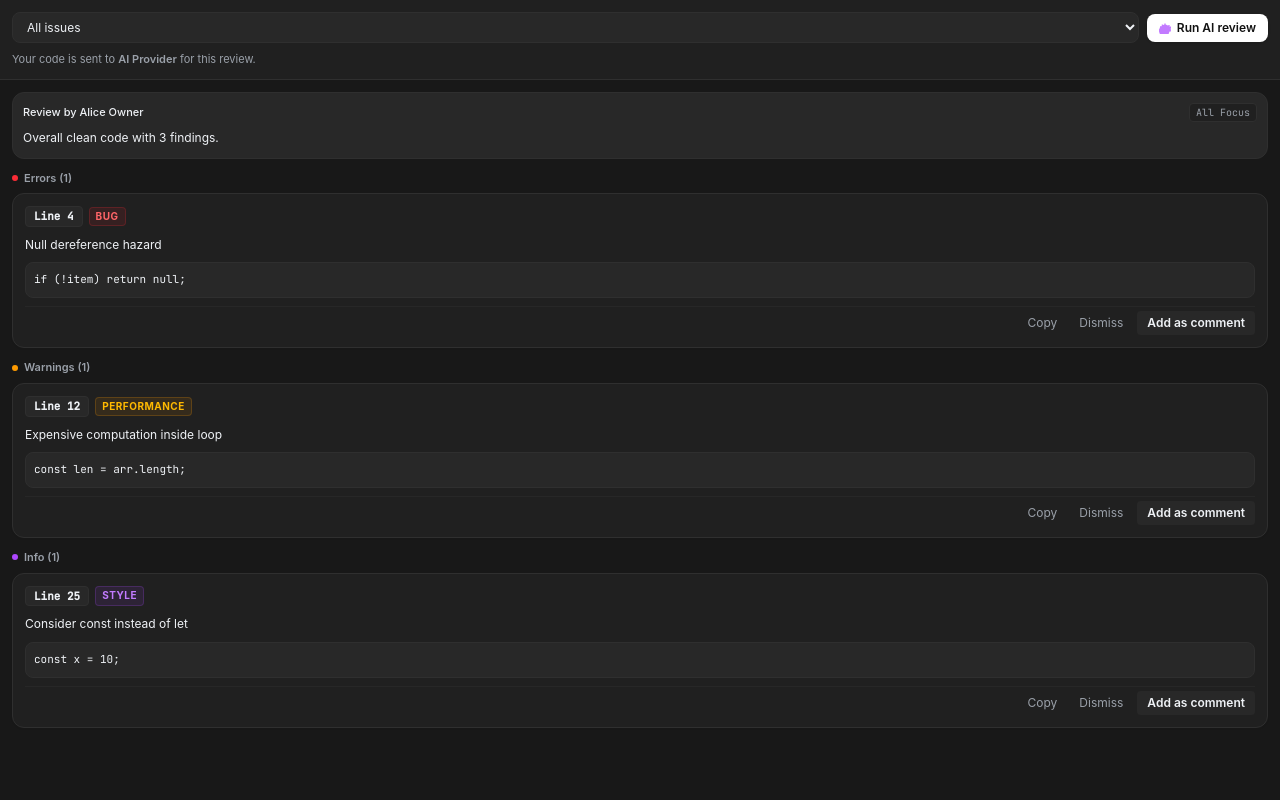
Test: Stage 3: AI Code Review Frontend › AiReviewPanel Component › clicking 'Dismiss' locally removes the finding from the view
Check: the text "Null dereference hazard" is shown, box [25, 237, 162, 252]
Click the 1st button "Dismiss": (1101, 323) [1071, 311, 1131, 335]
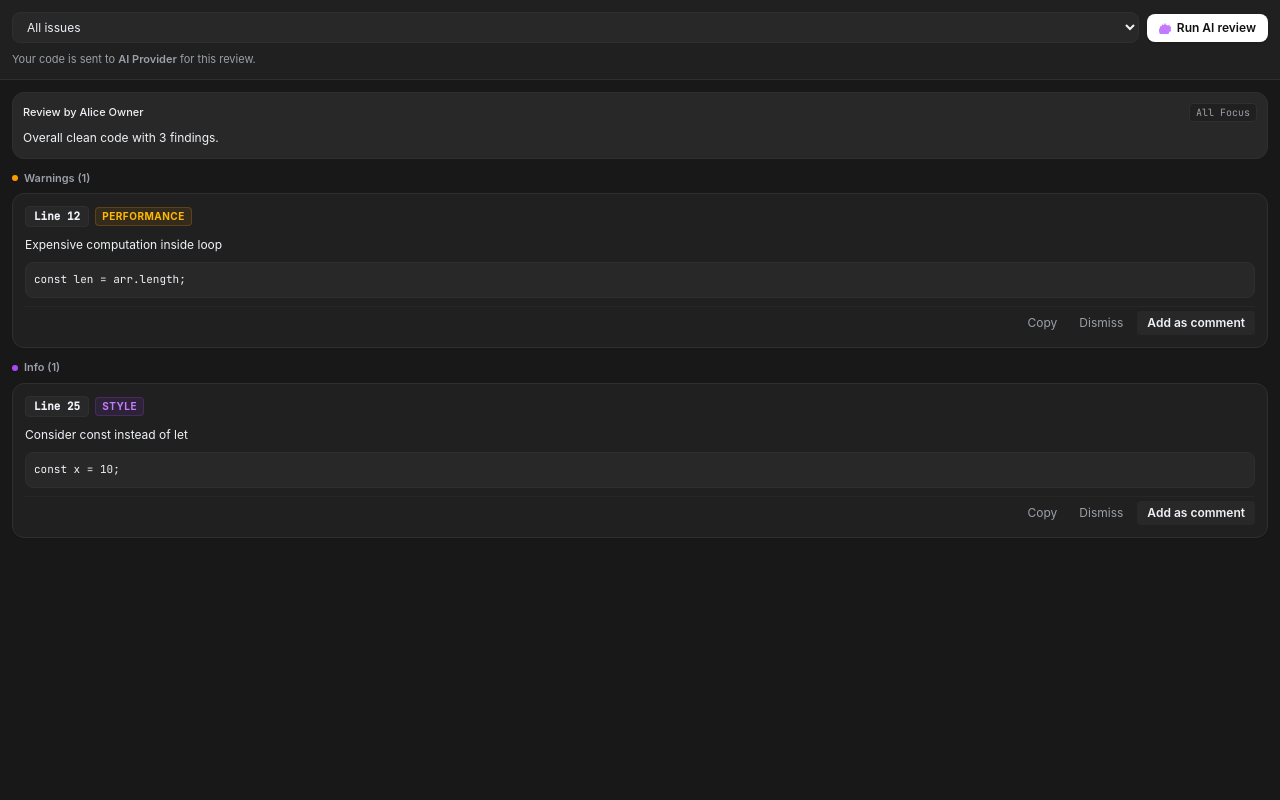
Check: the text "Expensive computation inside loop" is shown, box [25, 237, 222, 252]
Check: the text "Null dereference hazard" is gone
